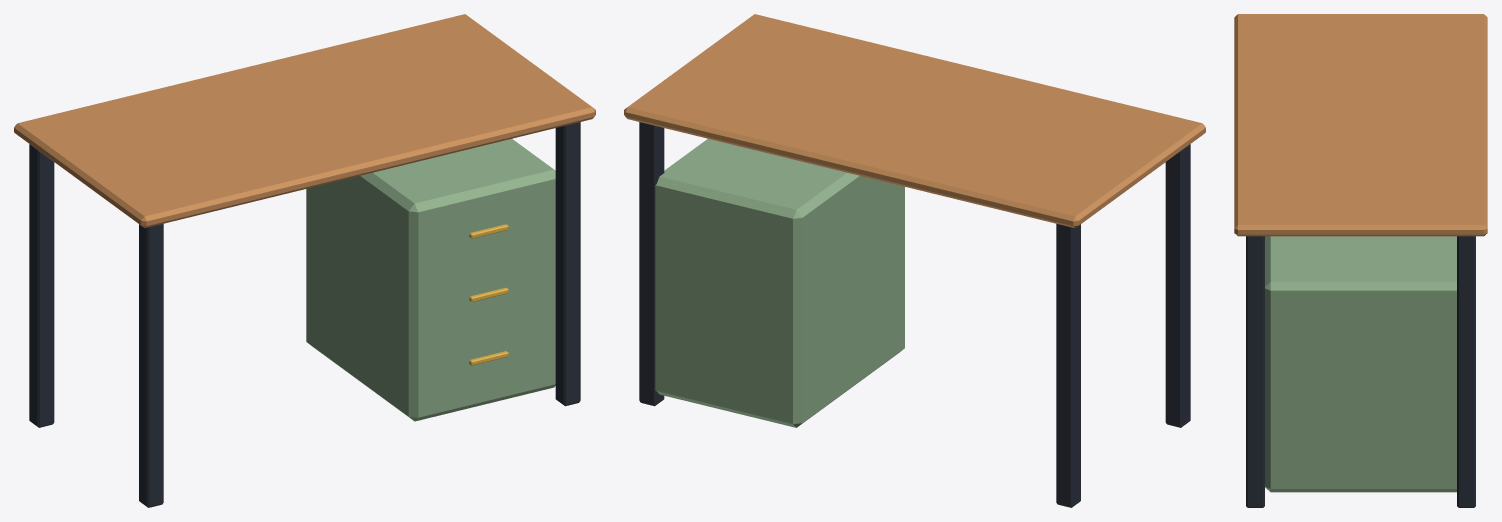
The model's file is desk_basic.glb.
3 renders of one model, left to right at view 1: azimuth 30°, elevation 25°; view 2: azimuth 150°, elevation 25°; view 3: azimuth 270°, elevation 25°, orthographic. The views are drawn at different scales.
Parts seen in each view (by area): view 1: top, drawers, leg_1_-1, leg_-1_1, leg_-1_-1; view 2: top, drawers, leg_-1_-1, leg_-1_1, leg_1_1; view 3: top, drawers, leg_1_1, leg_1_-1.
Part boxes in pixels (<box>): top: <box>14,14,595,227</box>; drawers: <box>306,139,555,421</box>; leg_1_-1: <box>555,122,580,406</box>; leg_-1_1: <box>29,144,54,427</box>; leg_-1_-1: <box>139,224,163,507</box>; top: <box>624,14,1205,227</box>; drawers: <box>655,139,904,427</box>; leg_-1_-1: <box>1165,144,1190,427</box>; leg_-1_1: <box>1056,224,1080,507</box>; leg_1_1: <box>639,122,664,406</box>; top: <box>1234,14,1487,236</box>; drawers: <box>1265,236,1456,492</box>; leg_1_1: <box>1457,236,1475,507</box>; leg_1_-1: <box>1246,236,1264,507</box>.
Bounding box in the file's own units: 1.2 × 0.75 × 0.6.
